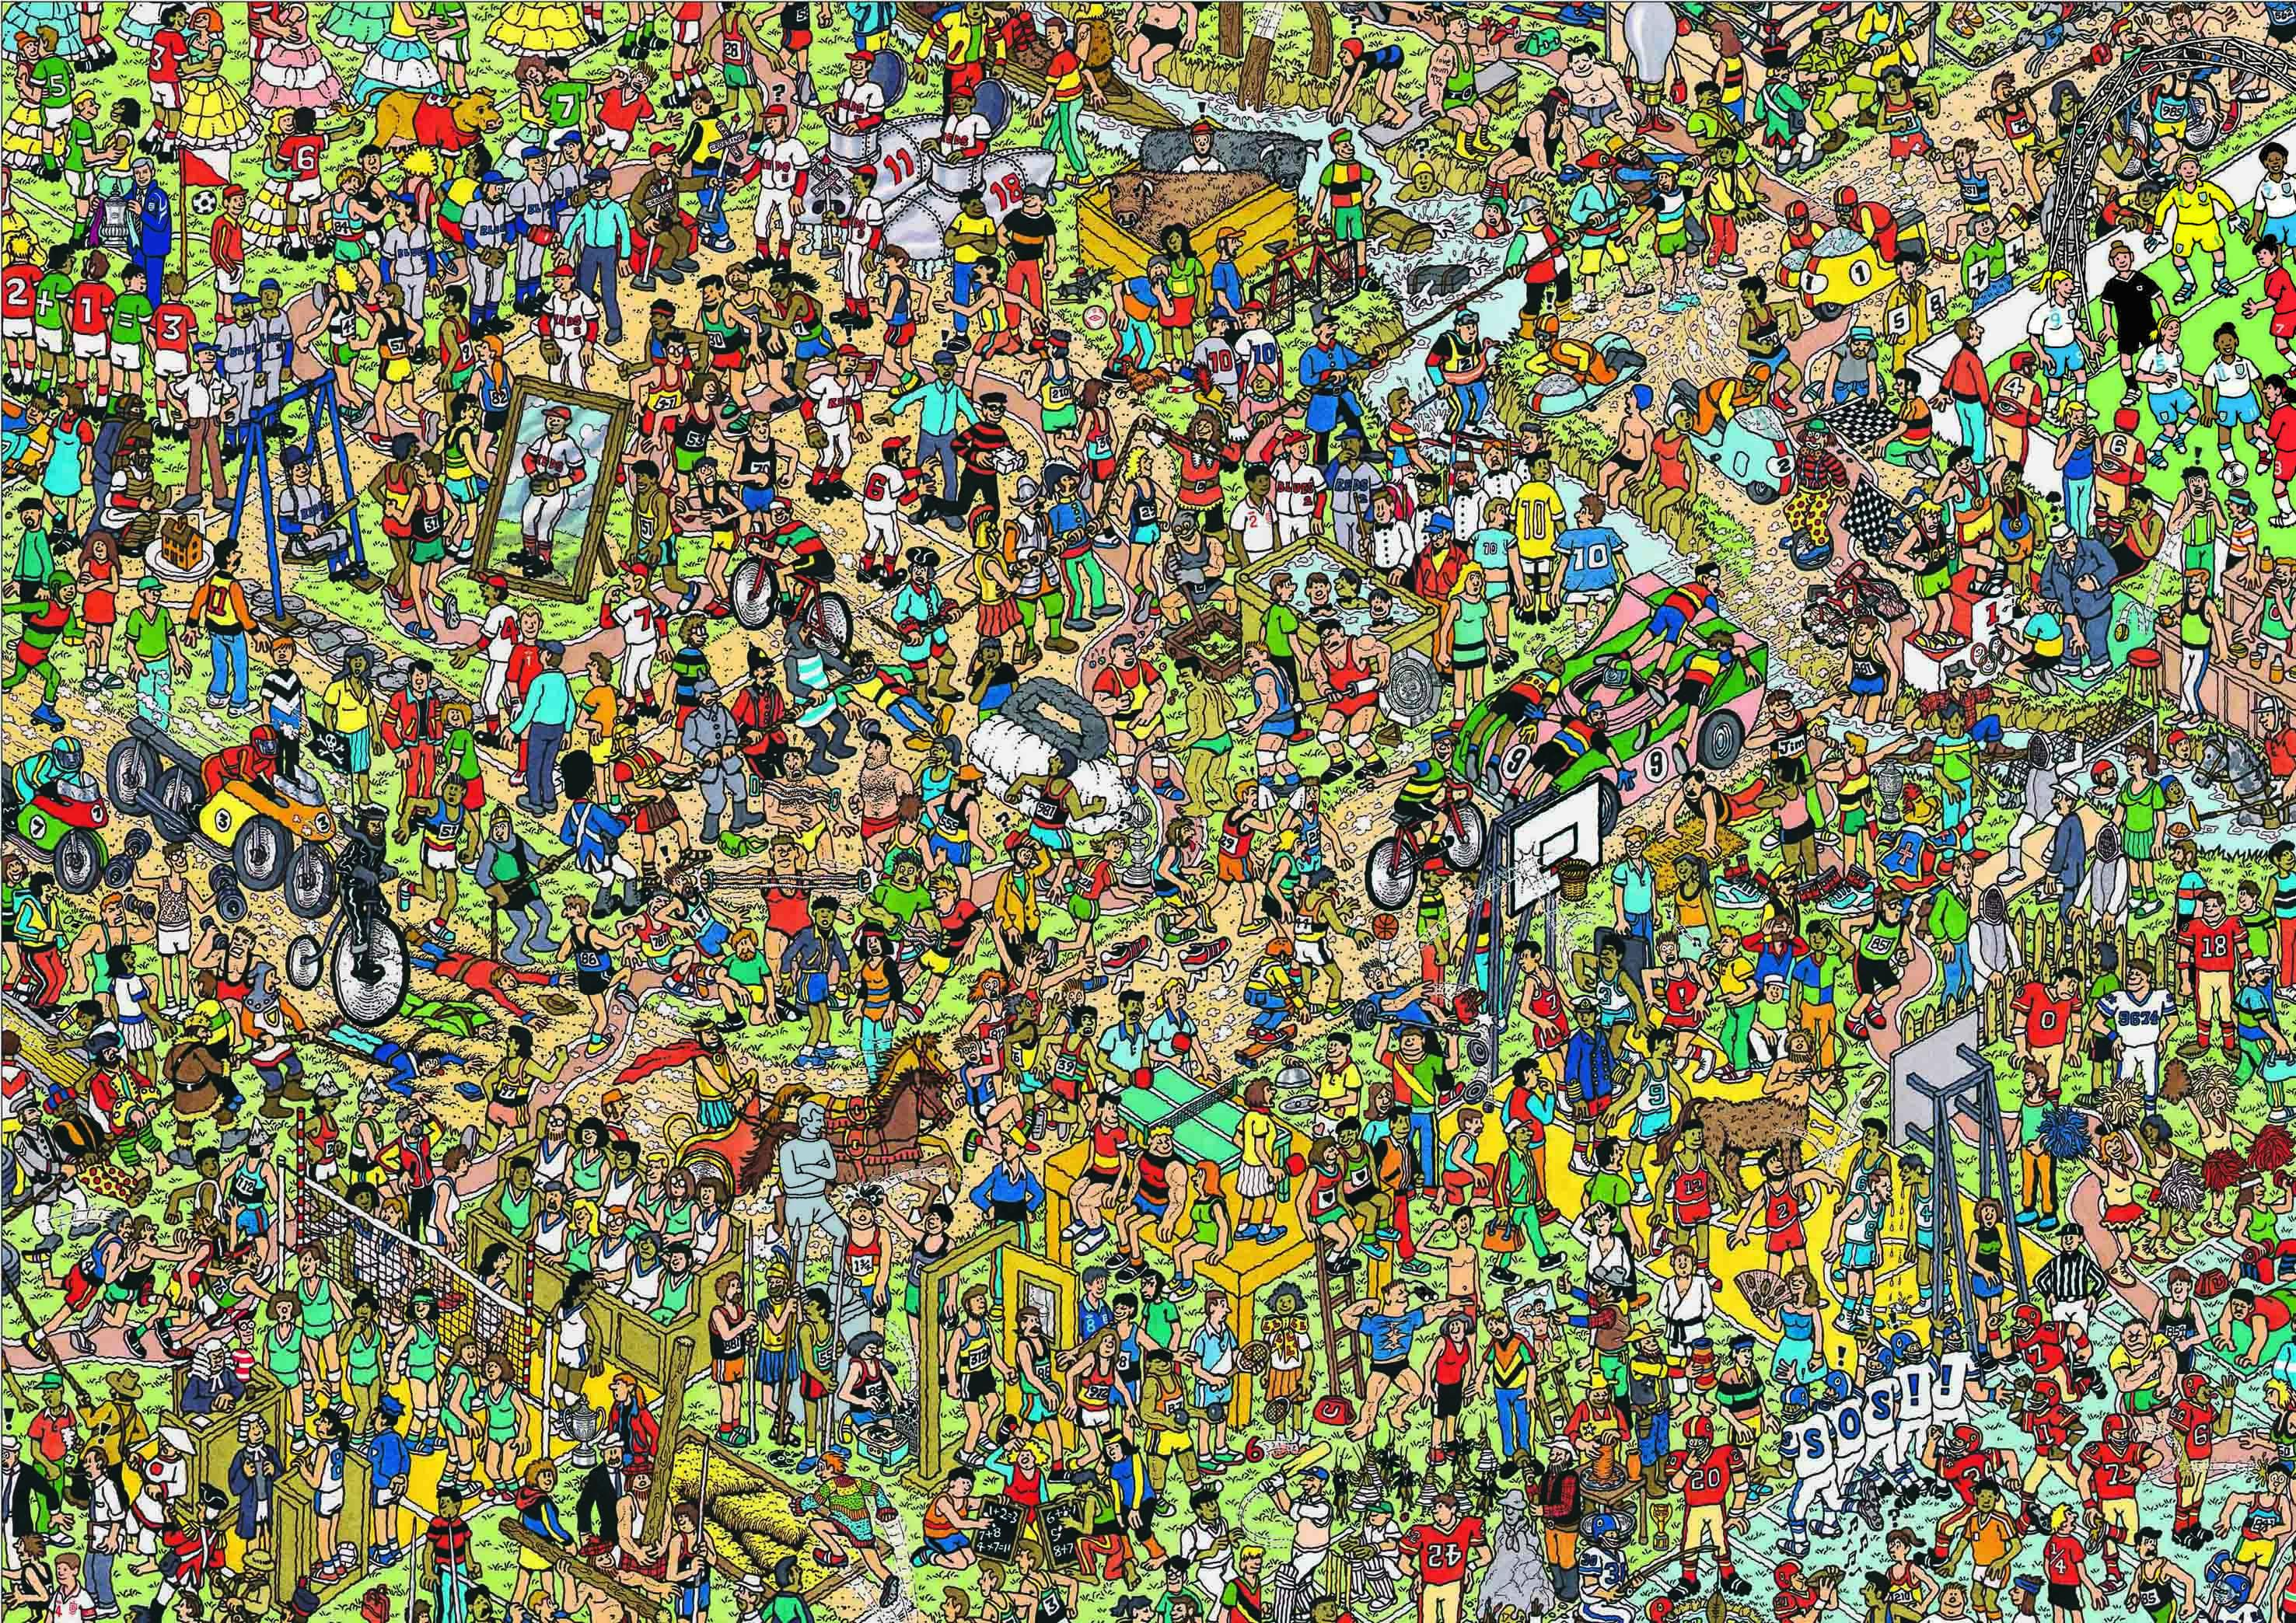waldo: (225, 1305, 258, 1345)
